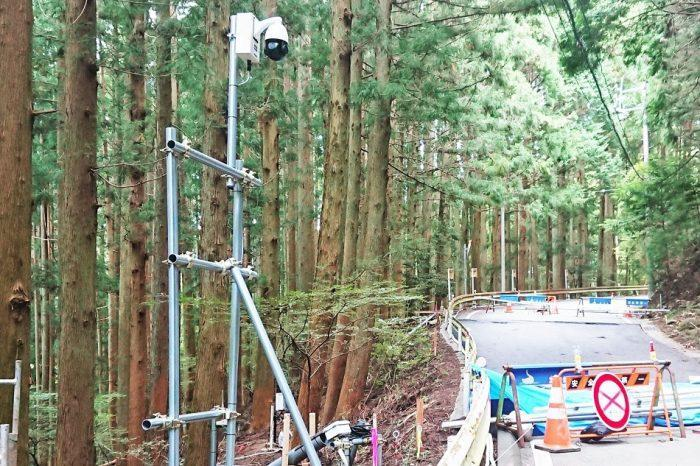maru: (262, 10, 291, 72)
